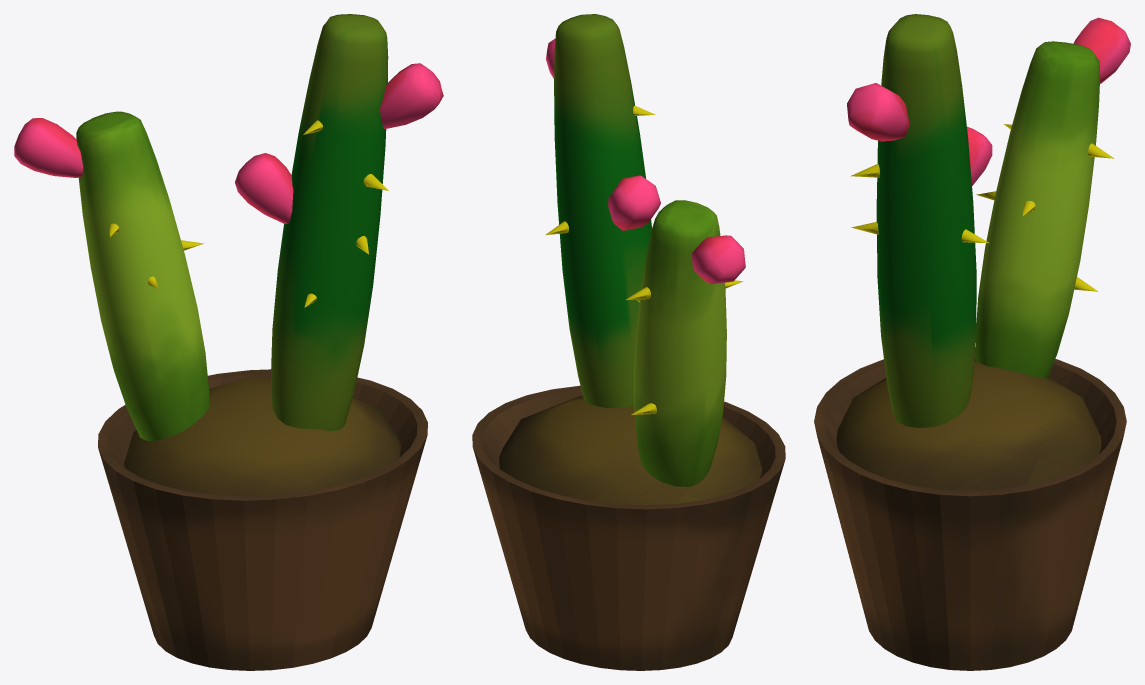
Rendered from plant pot.glb.
3 views of the same model, side by side, from view 1: azimuth 30°, elevation 25°; view 2: azimuth 150°, elevation 25°; view 3: azimuth 270°, elevation 25° (orthographic). The views are drawn at different scales.
Parts seen in each view (by area): view 1: Cylinder, Cube.001, Cube, Icosphere, Cube.002, Cube.005, Cube.006, Cone; view 2: Cylinder, Cube.001, Cube, Icosphere, Cube.006, Cube.002, Cone; view 3: Cylinder, Cube.001, Cube, Icosphere, Cube.005, Cube.002, Cone, Cube.006.
Boxes of the visible parts, left/top/right/bottom form: Cylinder: left=98, top=369, right=427, bottom=670; Cube.001: left=270, top=14, right=388, bottom=431; Cube: left=76, top=111, right=209, bottom=441; Icosphere: left=124, top=377, right=401, bottom=496; Cube.002: left=14, top=118, right=83, bottom=177; Cube.005: left=380, top=63, right=443, bottom=128; Cube.006: left=235, top=153, right=293, bottom=224; Cone: left=109, top=120, right=388, bottom=307; Cylinder: left=472, top=385, right=785, bottom=670; Cube.001: left=554, top=14, right=651, bottom=407; Cube: left=634, top=200, right=726, bottom=487; Icosphere: left=499, top=396, right=762, bottom=505; Cube.006: left=608, top=175, right=660, bottom=230; Cube.002: left=691, top=235, right=745, bottom=283; Cone: left=545, top=105, right=743, bottom=414; Cylinder: left=814, top=347, right=1126, bottom=670; Cube.001: left=876, top=14, right=976, bottom=427; Cube: left=975, top=41, right=1100, bottom=379; Icosphere: left=836, top=359, right=1101, bottom=491; Cube.005: left=847, top=83, right=909, bottom=141; Cube.002: left=1073, top=17, right=1130, bottom=83; Cone: left=850, top=124, right=1113, bottom=291; Cube.006: left=967, top=126, right=992, bottom=185.
Bounding box in the file's own units: 0.2618 × 0.4586 × 0.2085.
6 materials, 5 textured.
